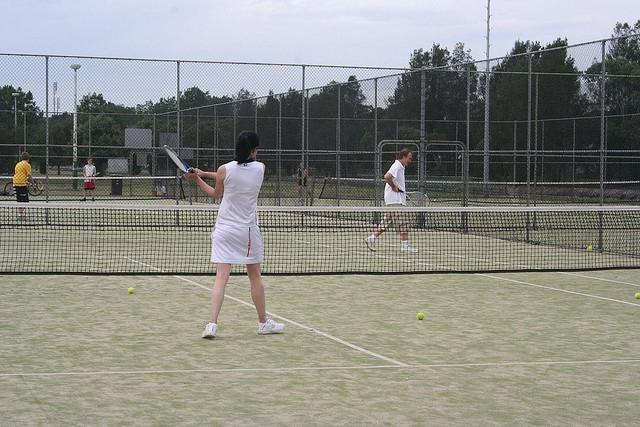bicycle: (4, 181, 42, 196)
